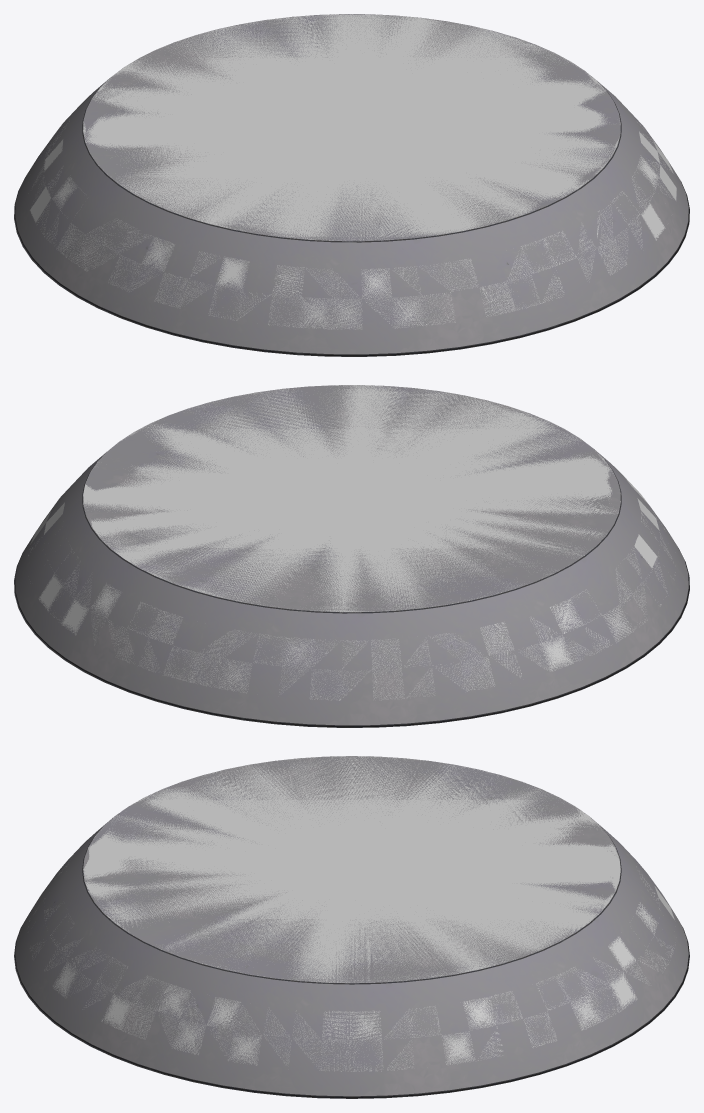
File: SM_Buliding06b.fbx
3 views of the same model, one above another, from view 1: azimuth 30°, elevation 25°; view 2: azimuth 150°, elevation 25°; view 3: azimuth 270°, elevation 25° (orthographic).
Parts seen in each view (by area): view 1: SM_Buliding06b, SM_Buliding06b_ConvexHulls; view 2: SM_Buliding06b, SM_Buliding06b_ConvexHulls; view 3: SM_Buliding06b, SM_Buliding06b_ConvexHulls.
Part boxes in pixels (x1=…): SM_Buliding06b: x1=14, y1=14, x2=689, y2=356; SM_Buliding06b_ConvexHulls: x1=28, y1=14, x2=676, y2=329; SM_Buliding06b: x1=14, y1=385, x2=689, y2=727; SM_Buliding06b_ConvexHulls: x1=28, y1=385, x2=675, y2=700; SM_Buliding06b: x1=14, y1=756, x2=689, y2=1098; SM_Buliding06b_ConvexHulls: x1=28, y1=756, x2=674, y2=1071.
Size of the model in its own units: 1000 by 1000 by 150.
3 materials, 2 textured.
